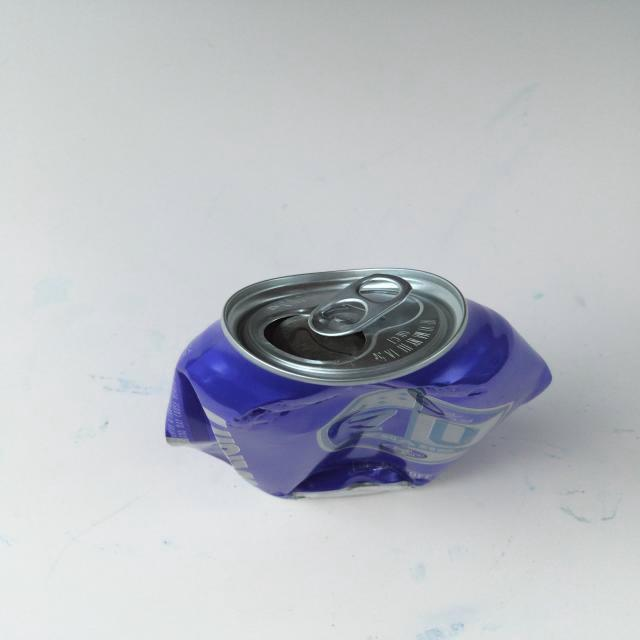metal: (156, 260, 574, 506)
